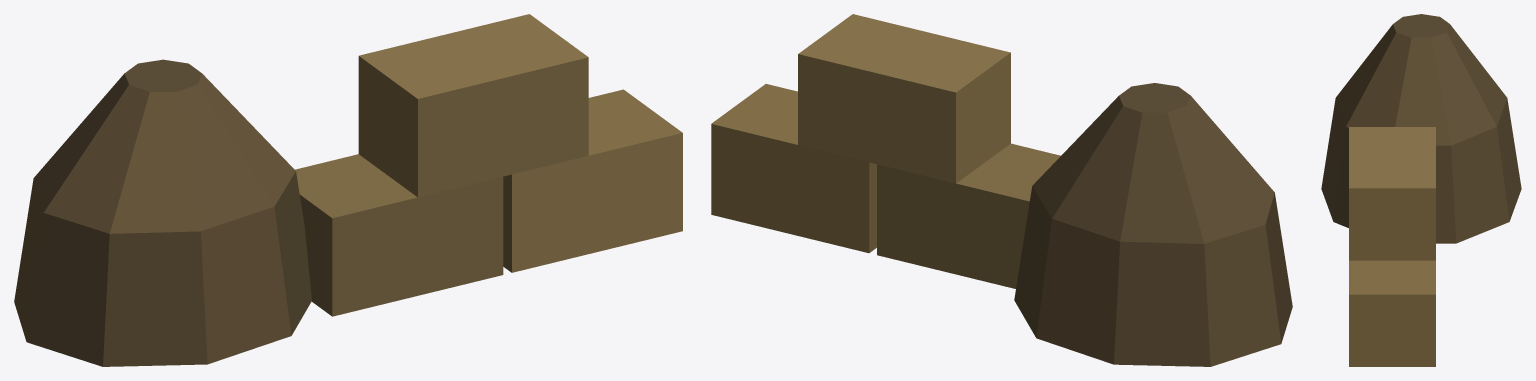
The model's file is walk_prop_hay.glb.
3 renders of one model, left to right at view 1: azimuth 30°, elevation 25°; view 2: azimuth 150°, elevation 25°; view 3: azimuth 270°, elevation 25°, orthographic. The views are drawn at different scales.
Parts seen in each view (by area): view 1: walk_prop_hay; view 2: walk_prop_hay; view 3: walk_prop_hay.
Boxes of the visible parts, x1,y1,x2,y2 form: walk_prop_hay: (14, 14, 682, 366); walk_prop_hay: (711, 14, 1292, 366); walk_prop_hay: (1321, 14, 1521, 366).
Size of the model in its own units: 3.55 by 1.3 by 1.38.
1 material, 1 textured.
